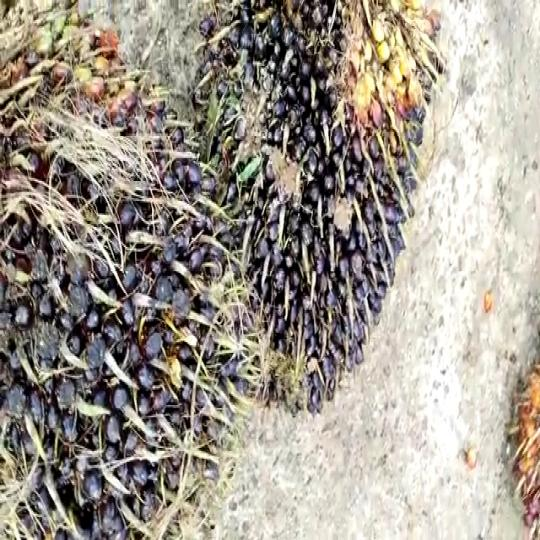mentah: (0, 0, 246, 540), (191, 0, 449, 436)
